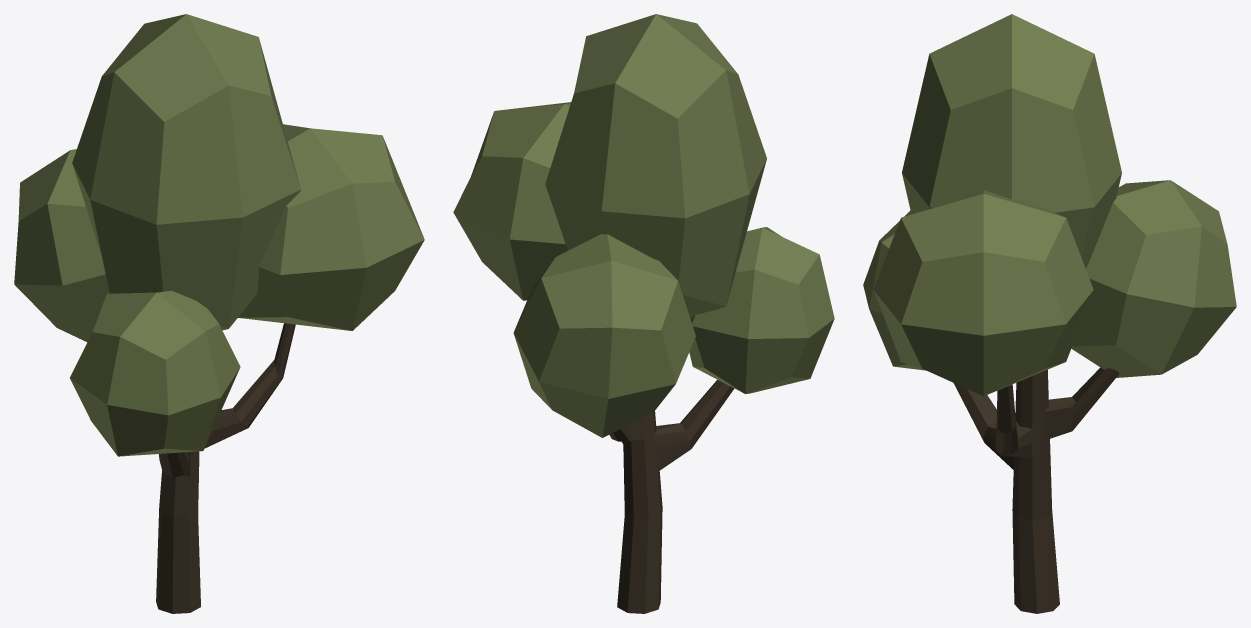
File: MDL_Birch_Tree.fbx
The picture shows the model from 3 angles, left to right: view 1: azimuth 30°, elevation 25°; view 2: azimuth 150°, elevation 25°; view 3: azimuth 270°, elevation 25°; orthographic projection. The views are drawn at different scales.
Visible parts, largest first — view 1: tree_green_3; view 2: tree_green_3; view 3: tree_green_3.
Part boxes in pixels (<box>): tree_green_3: <box>14,14,424,613</box>; tree_green_3: <box>453,14,834,613</box>; tree_green_3: <box>863,14,1236,613</box>.
Bounding box in the file's own units: 0.1698 × 0.2844 × 0.1638.
